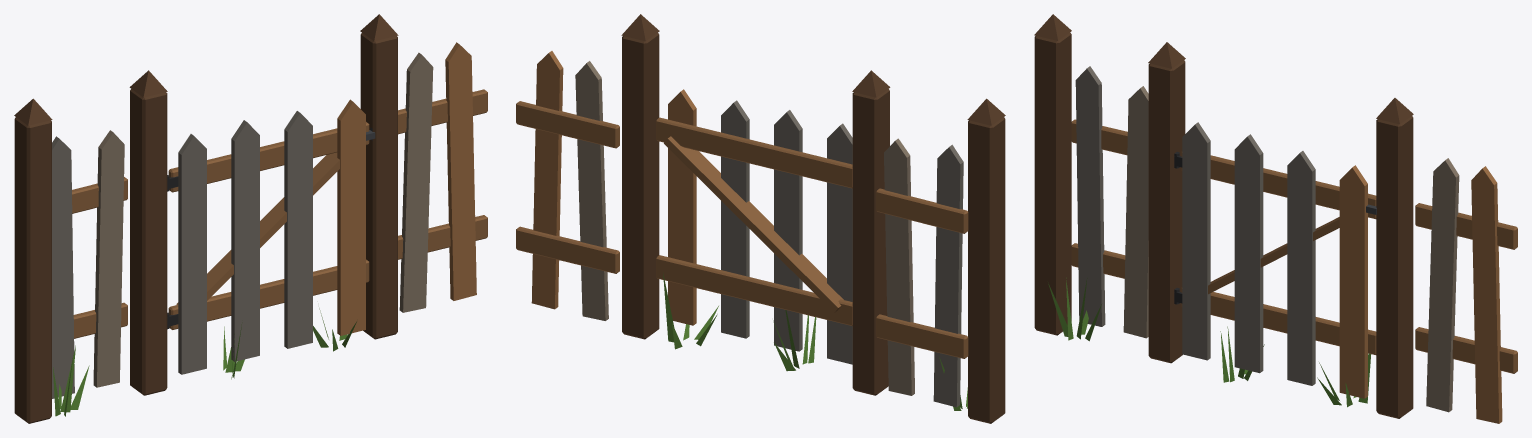
Rendered from WoodenFenceGate.fbx.
The picture shows the model from 3 angles, left to right: view 1: azimuth 30°, elevation 25°; view 2: azimuth 150°, elevation 25°; view 3: azimuth 330°, elevation 25°; orthographic projection.
Parts seen in each view (by area): view 1: WoodenFenceGate, Gate; view 2: WoodenFenceGate, Gate; view 3: WoodenFenceGate, Gate.
Part boxes in pixels (x1,y1,x2,y2): WoodenFenceGate: [14, 14, 487, 423]; Gate: [167, 99, 375, 374]; WoodenFenceGate: [516, 14, 1005, 423]; Gate: [656, 89, 852, 364]; WoodenFenceGate: [1034, 14, 1517, 423]; Gate: [1174, 122, 1376, 398].
Bounding box in the file's own units: 2.06 × 1.32 × 0.2396.
1 material, 1 textured.
